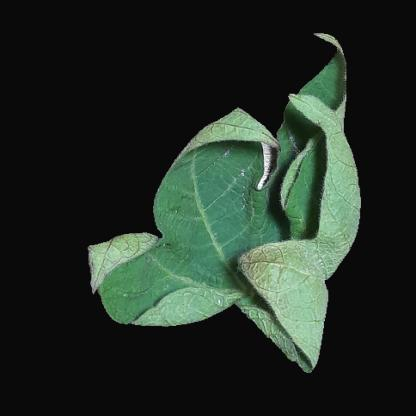curl_stage2: (169, 190, 325, 316), (187, 129, 349, 189), (112, 240, 170, 310), (323, 175, 361, 255), (200, 119, 269, 149)
